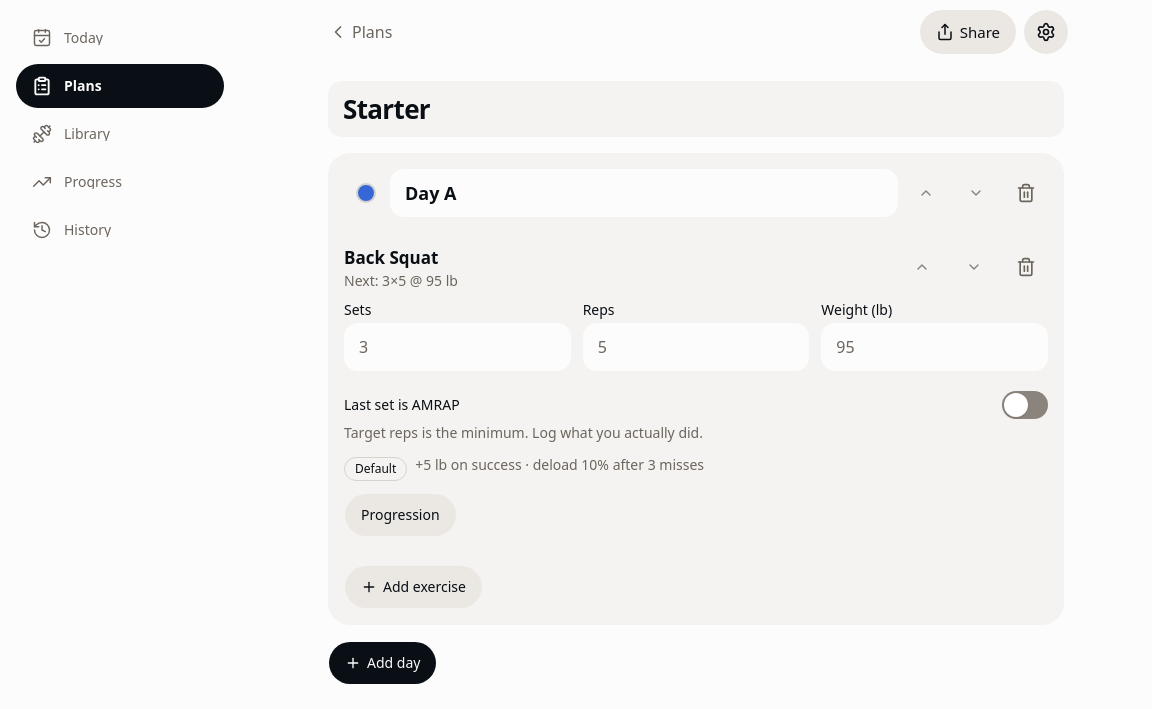
guests are asked to create an account
The image size is (1152, 709).
Click the button "Share".
click(968, 32)  # box [920,10,1016,54]
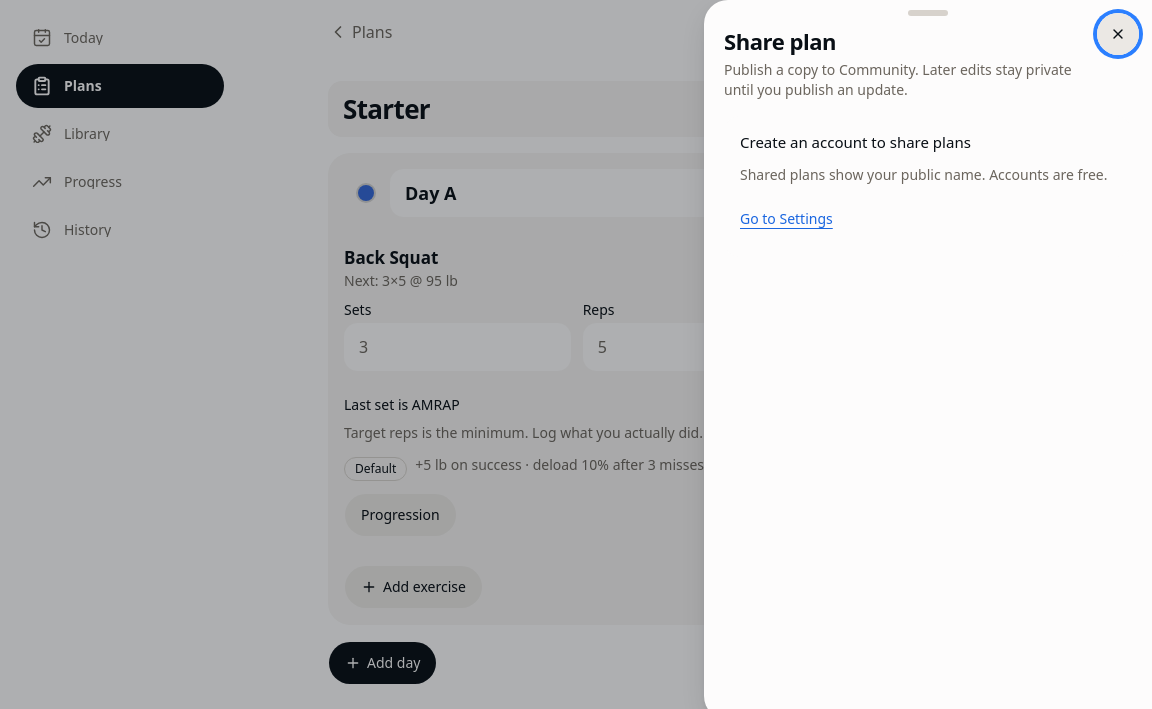
Result: the text "Create an account to share plans" is shown at [740,132,971,152]
